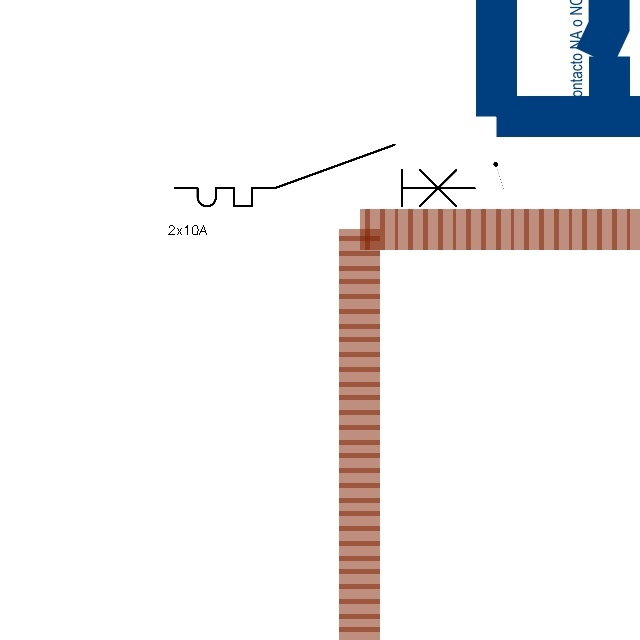interruptor_termomagnetico: (167, 137, 482, 214)
